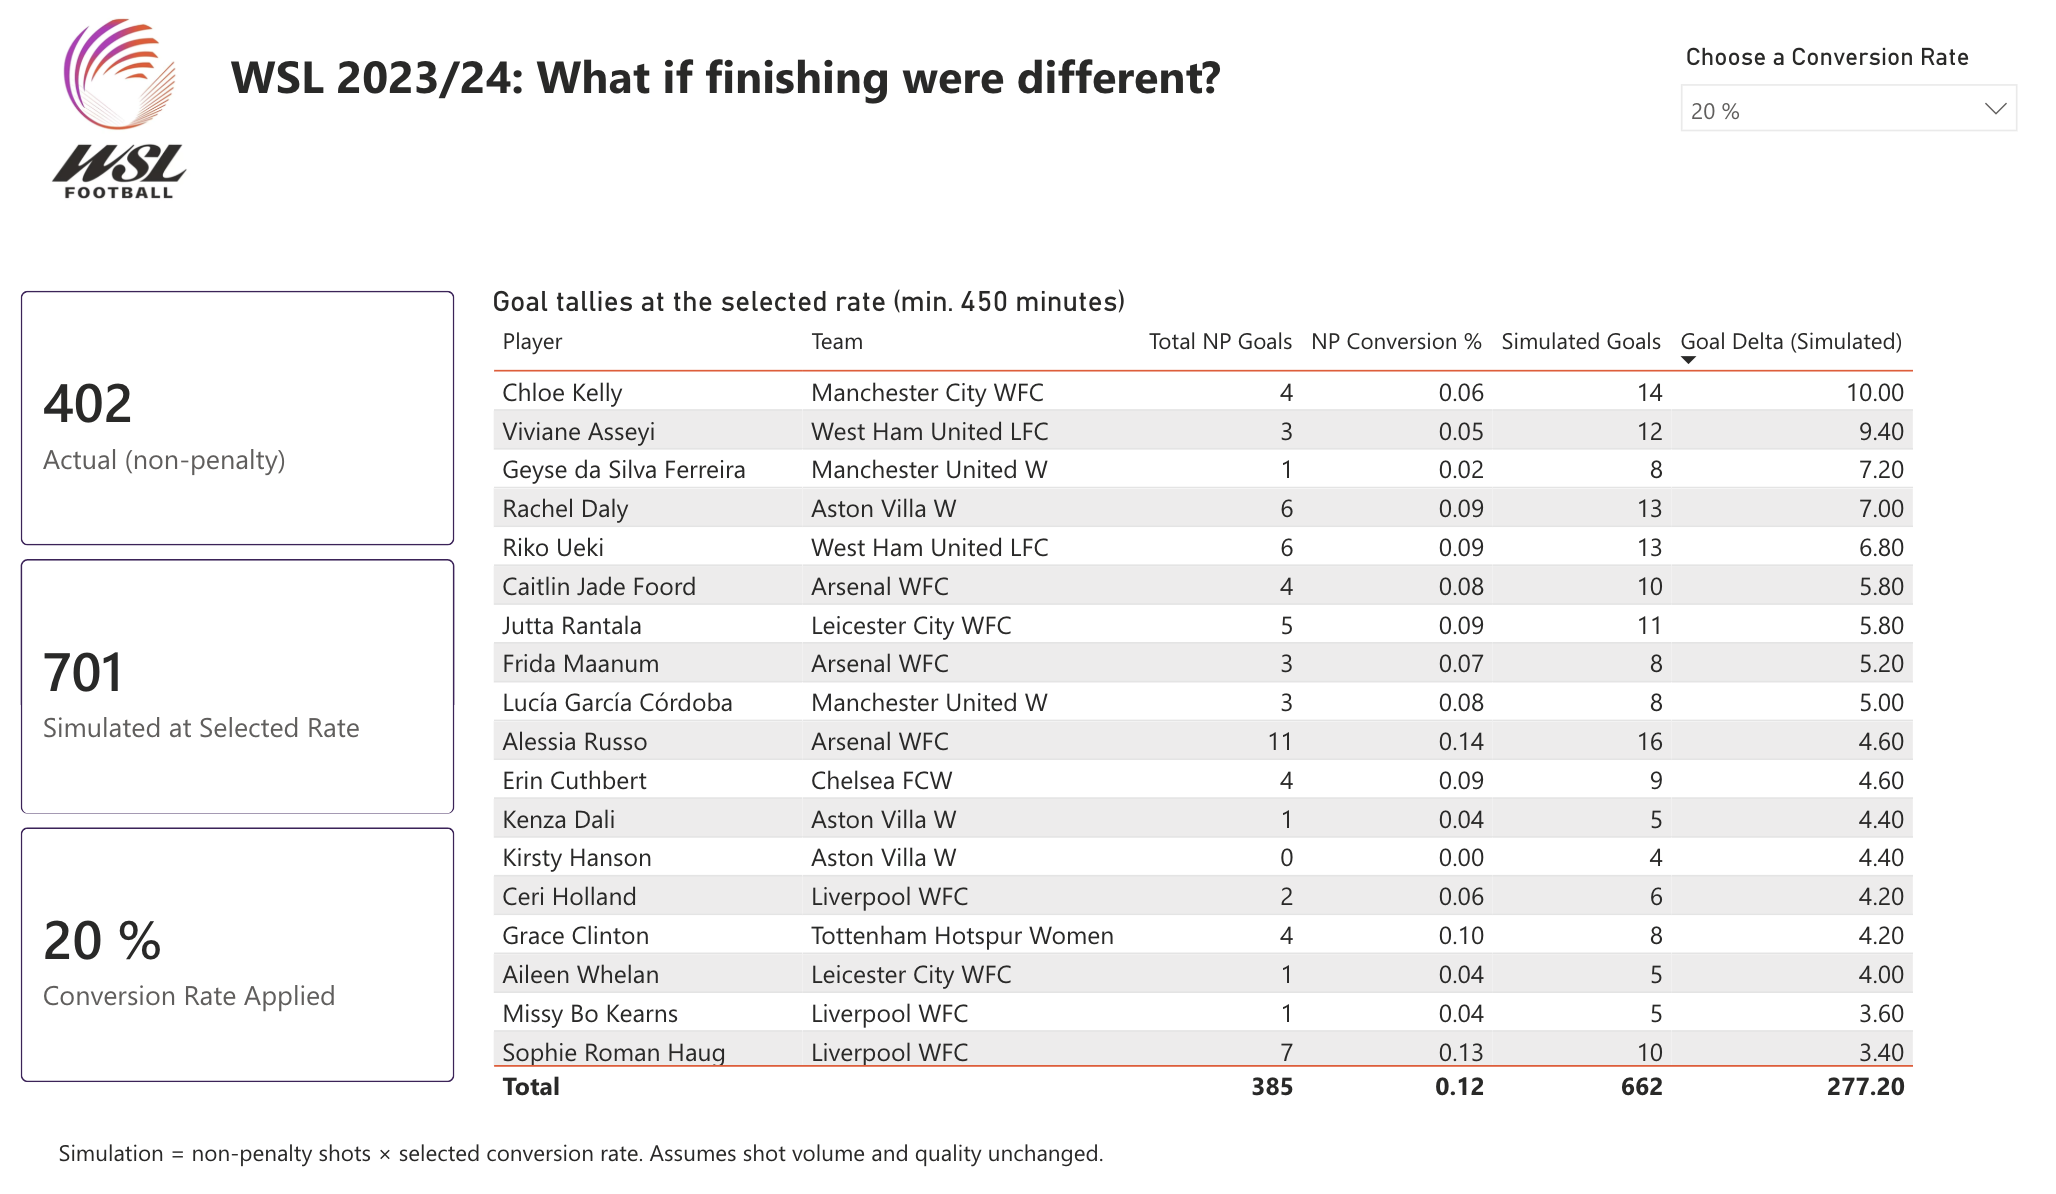

The dashboard page shown, as its layout file describes it:
{"tool":"powerbi","page":{"name":"What-If","canvas":[1280,720],"ordinal":3},"visuals":[{"type":"image","box":[52,8.8,83.5,125.2],"z":0},{"type":"textbox","box":[153.5,28.8,724.1,60.1],"z":1000},{"type":"slicer","fields":{"Values":["conversion_rate_parameter.Value"]},"box":[1008.1,28.5,219.3,85.6],"z":2000},{"type":"cardVisual","fields":{"Data":["metrics.Total NP Goals","metrics.Simulated Goals","metrics.Selected Conversion Rate"]},"box":[18,162.3,291.5,503.3],"z":3000},{"type":"tableEx","title":"Goal tallies at the selected rate (min. 450 minutes)","fields":{"Values":["dim_player.player","dim_player.team","metrics.Total NP Goals","metrics.NP Conversion %","metrics.Simulated Goals","metrics.Goal Delta (Simulated)"]},"box":[309.5,177.3,970.5,488.3],"z":4000},{"type":"textbox","box":[52.6,676.1,670,33.1],"z":5000}]}

Visuals, with their boxes on the page's 1280x720 design canvas (x1, y1, x2, y2). These are canvas units, not pixel positions in the 2056x1194 screenshot, which may show the page scaled, cropped or inside an application window:
image: l=52, t=9, r=136, b=134
textbox: l=154, t=29, r=878, b=89
slicer - conversion_rate_parameter.Value: l=1008, t=28, r=1227, b=114
cardVisual - metrics.Total NP Goals x metrics.Simulated Goals: l=18, t=162, r=310, b=666
"Goal tallies at the selected rate (min. 450 minutes)" tableEx: l=310, t=177, r=1280, b=666
textbox: l=53, t=676, r=723, b=709
